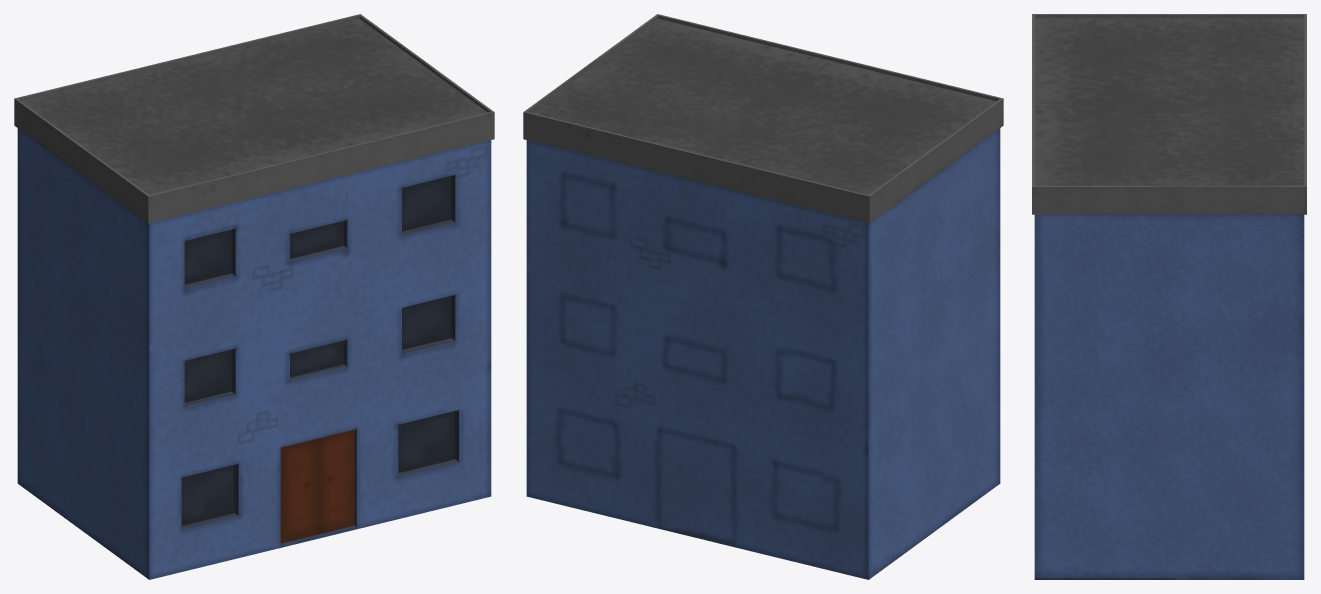
Rendered from simple build 001.FBX.
3 views of the same model, side by side, from view 1: azimuth 30°, elevation 25°; view 2: azimuth 150°, elevation 25°; view 3: azimuth 270°, elevation 25° (orthographic). The views are drawn at different scales.
Visible parts, largest first — view 1: Box001; view 2: Box001; view 3: Box001.
Part boxes in pixels (box(x1,y1,x2,y2)): Box001: box(14, 14, 494, 579); Box001: box(523, 14, 1003, 579); Box001: box(1032, 14, 1306, 579).
Bounding box in the file's own units: 9.12 × 9.68 × 6.12.
1 material, 1 textured.
